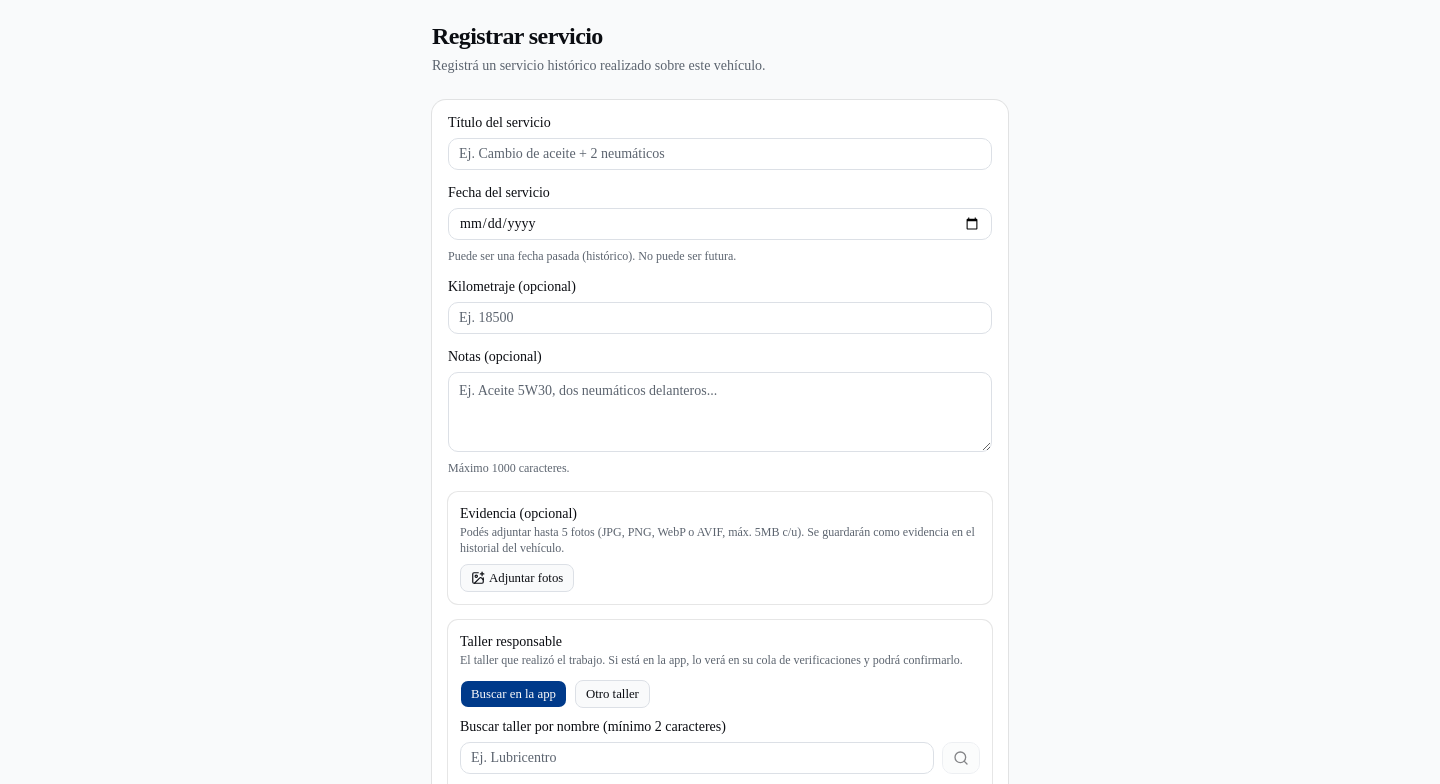
Scenario: Registrar servicio page (iteración 2-2) › happy path con 'Otro taller': envía workshopName (y nunca workshopId)
In the field labelled "Título del servicio": point(720, 154) [448, 138, 992, 170], type "Cambio de aceite + 2 neumáticos"
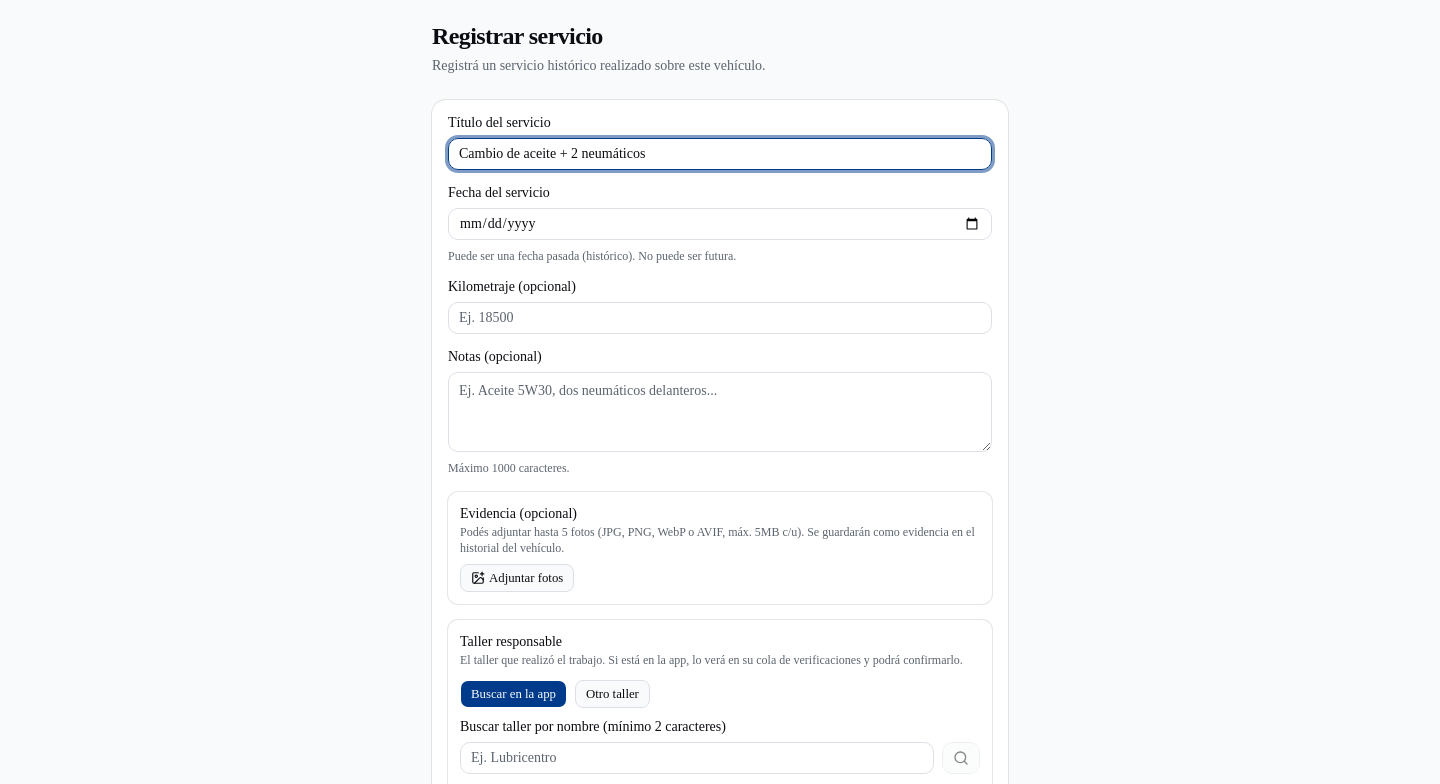
In the date field labelled "Fecha del servicio": point(720, 224) [448, 208, 992, 240], type "2026-06-15"
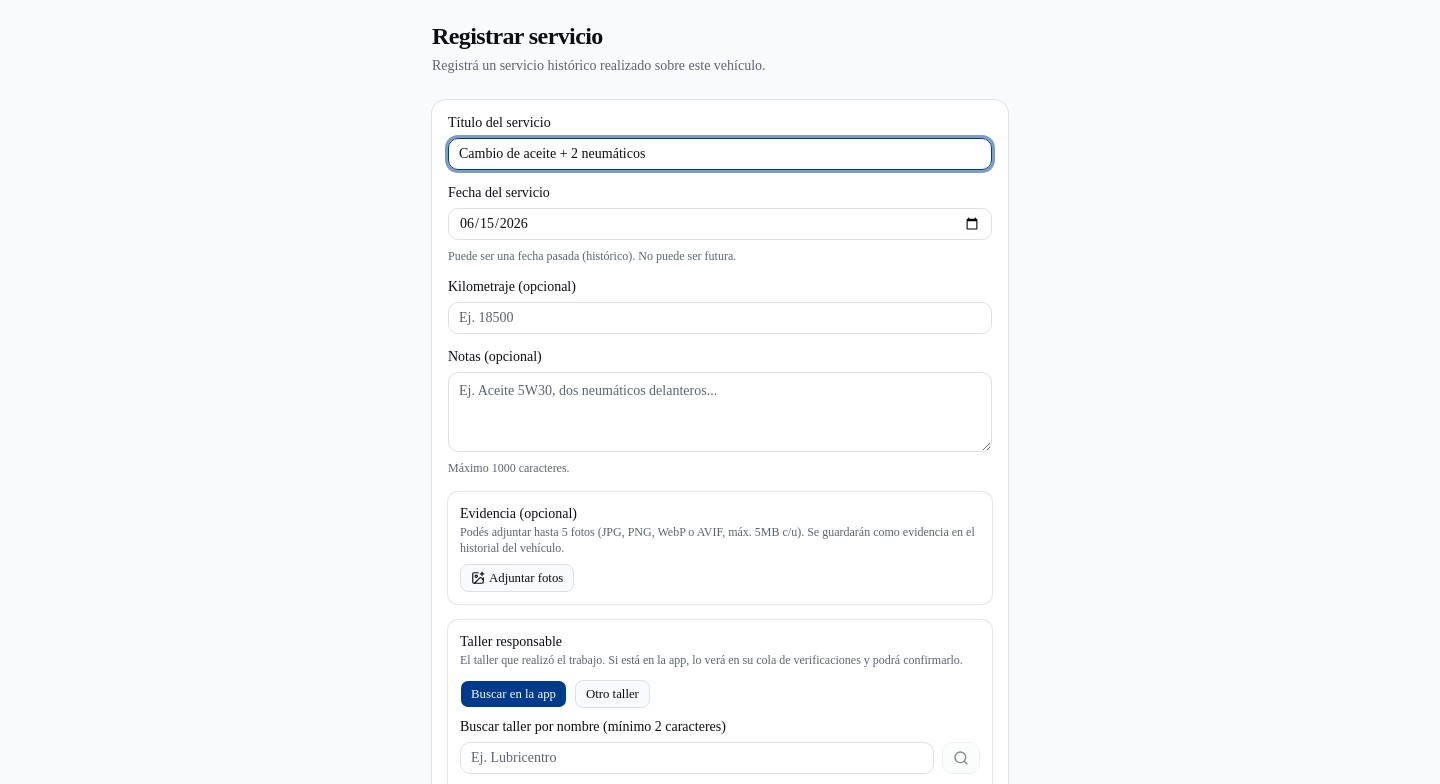
Click the button "Otro taller": point(612, 694) [575, 680, 650, 708]
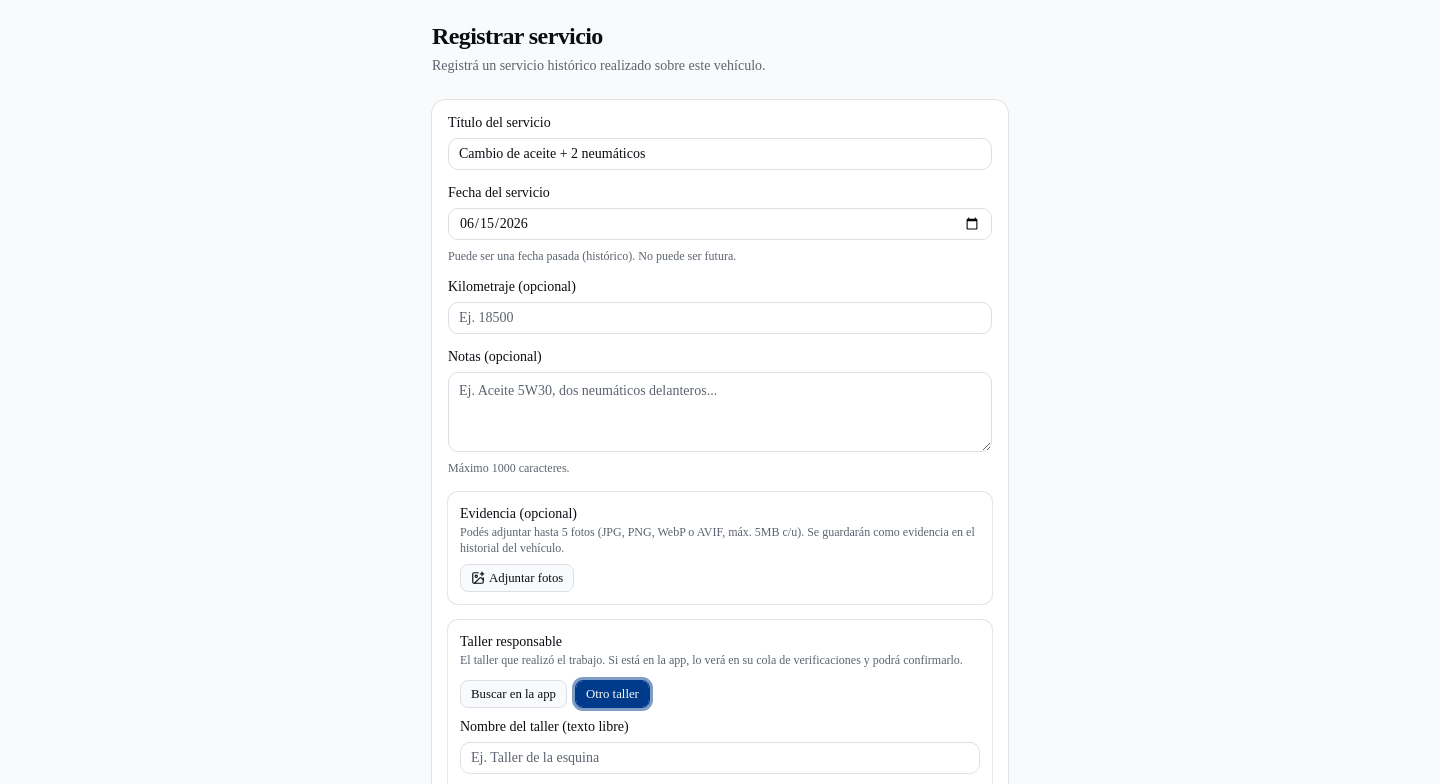
In the field labelled "Nombre del taller (texto libre)": point(720, 758) [460, 742, 980, 774], type "Taller de la esquina"
(page scrolled)
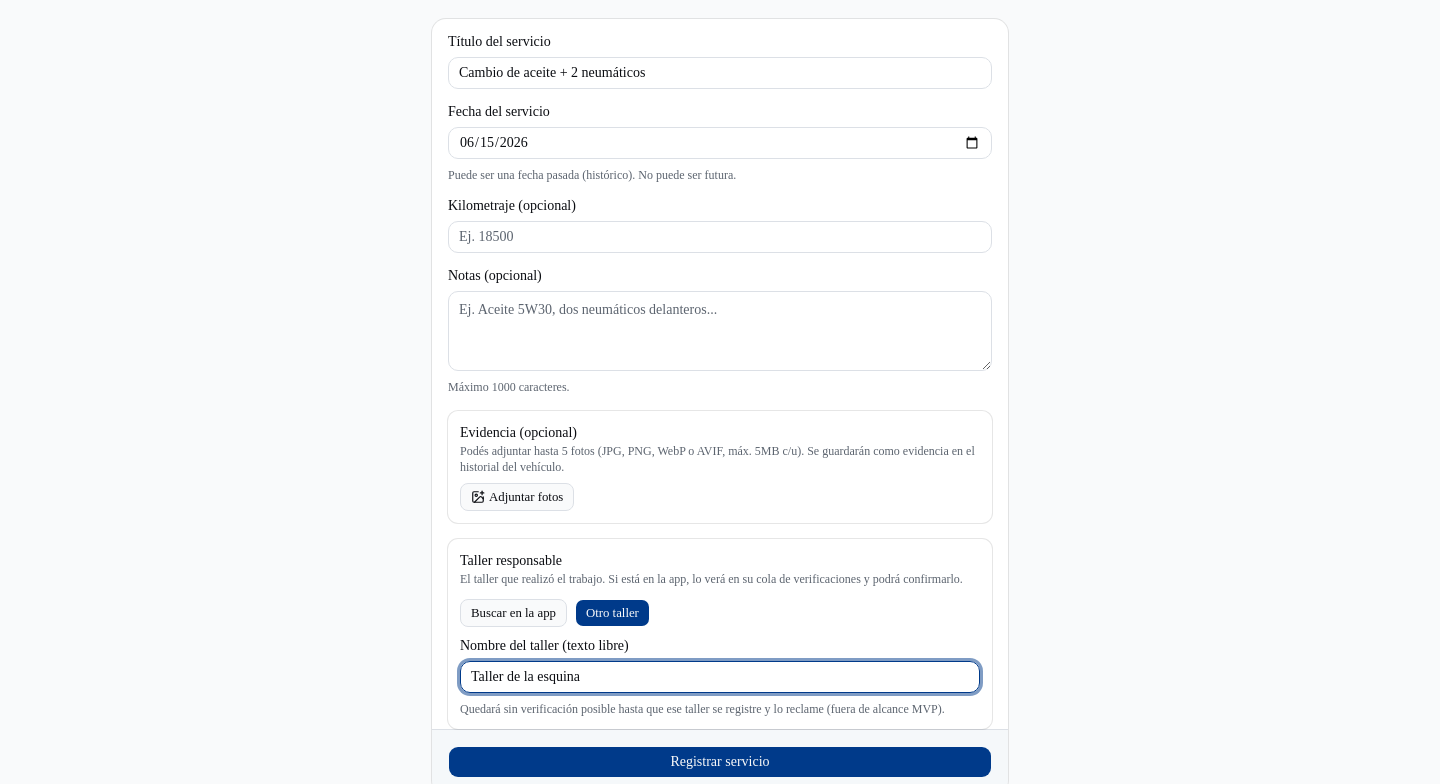
Click the button "Registrar servicio": point(720, 762) [448, 746, 992, 778]
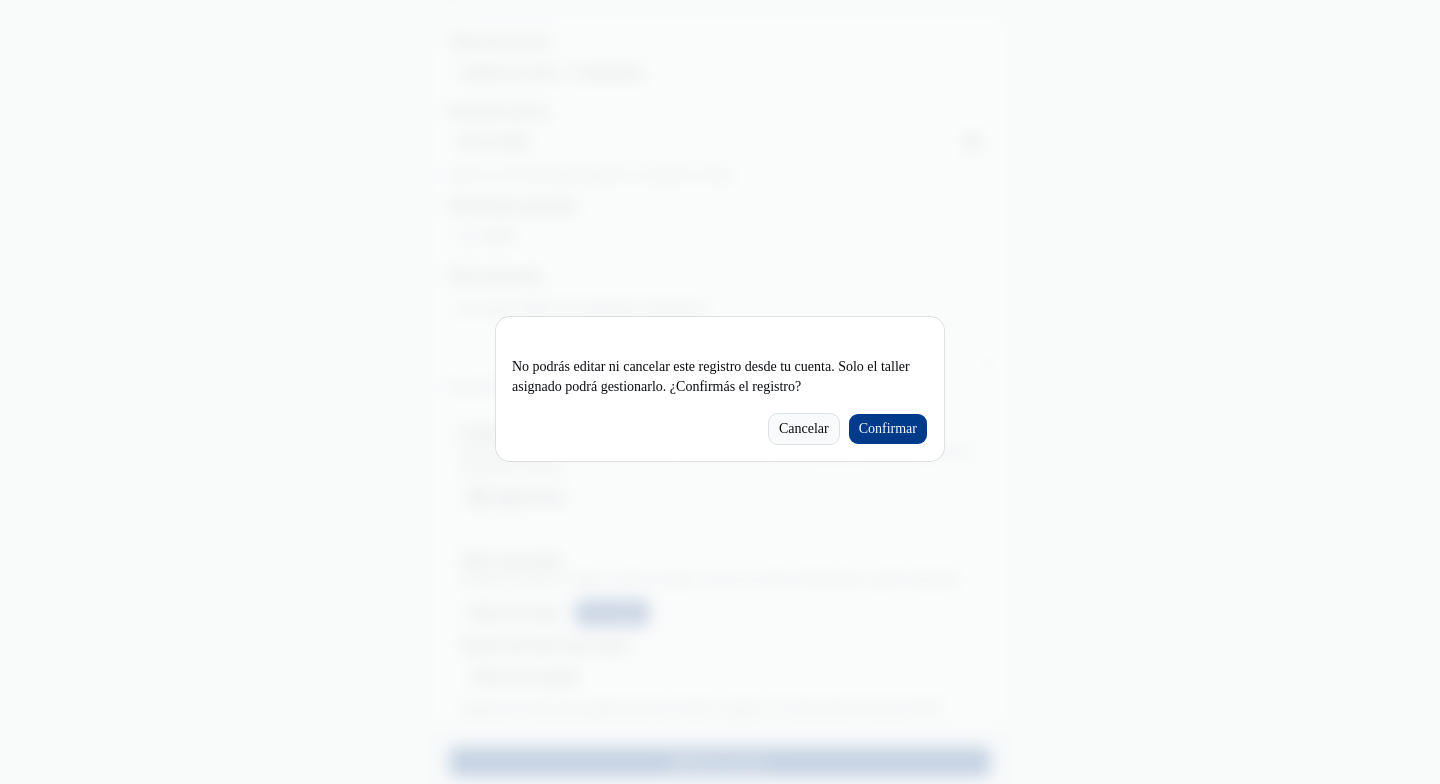
Check: the dialog is shown, box [496, 317, 944, 461]
Click the button "Confirmar": point(888, 429) [848, 413, 928, 445]
(page scrolled)
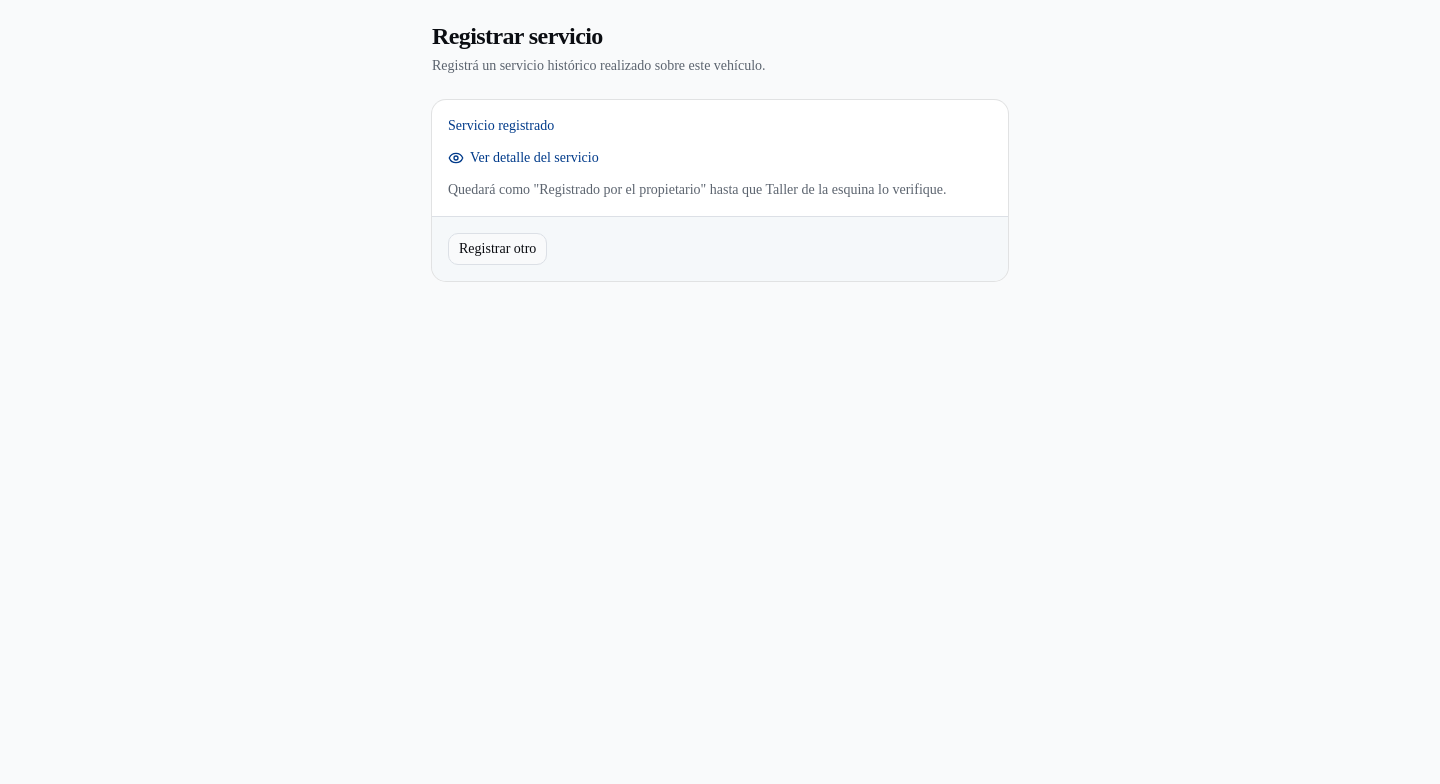
Check: the text "quedará como \"Registrado por el propietario\" hasta que Taller de la esquina lo verifique" is shown, box [448, 180, 992, 200]
